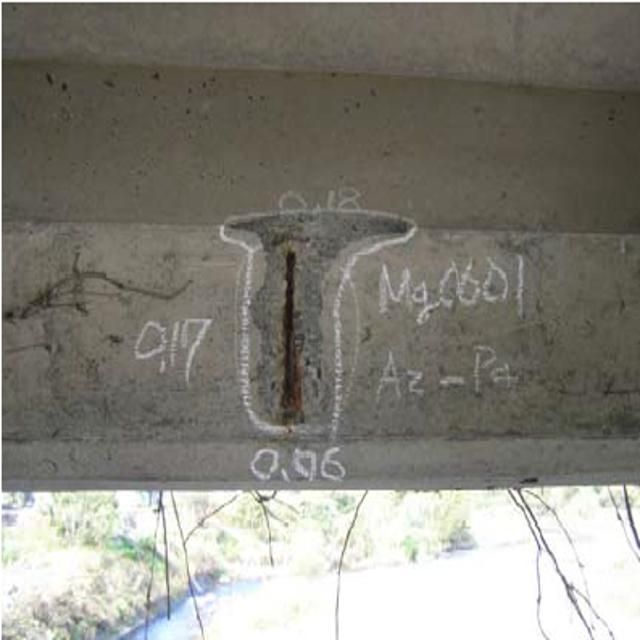spalling: (210, 181, 397, 453)
